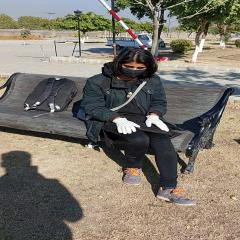gloved: (112, 118, 141, 134), (146, 115, 169, 133)
